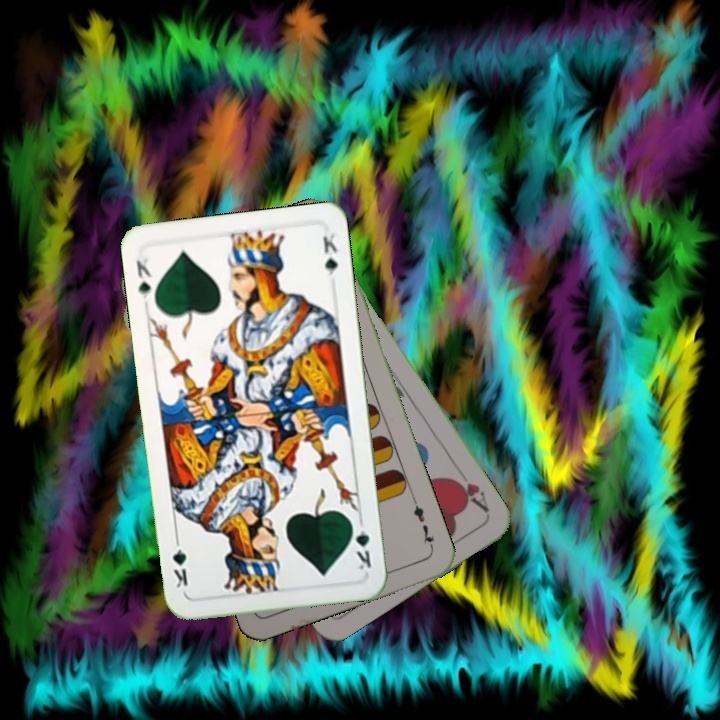E7: (409, 495, 437, 552)
GK: (347, 516, 374, 572), (132, 254, 155, 303)
HA: (447, 472, 492, 516)
